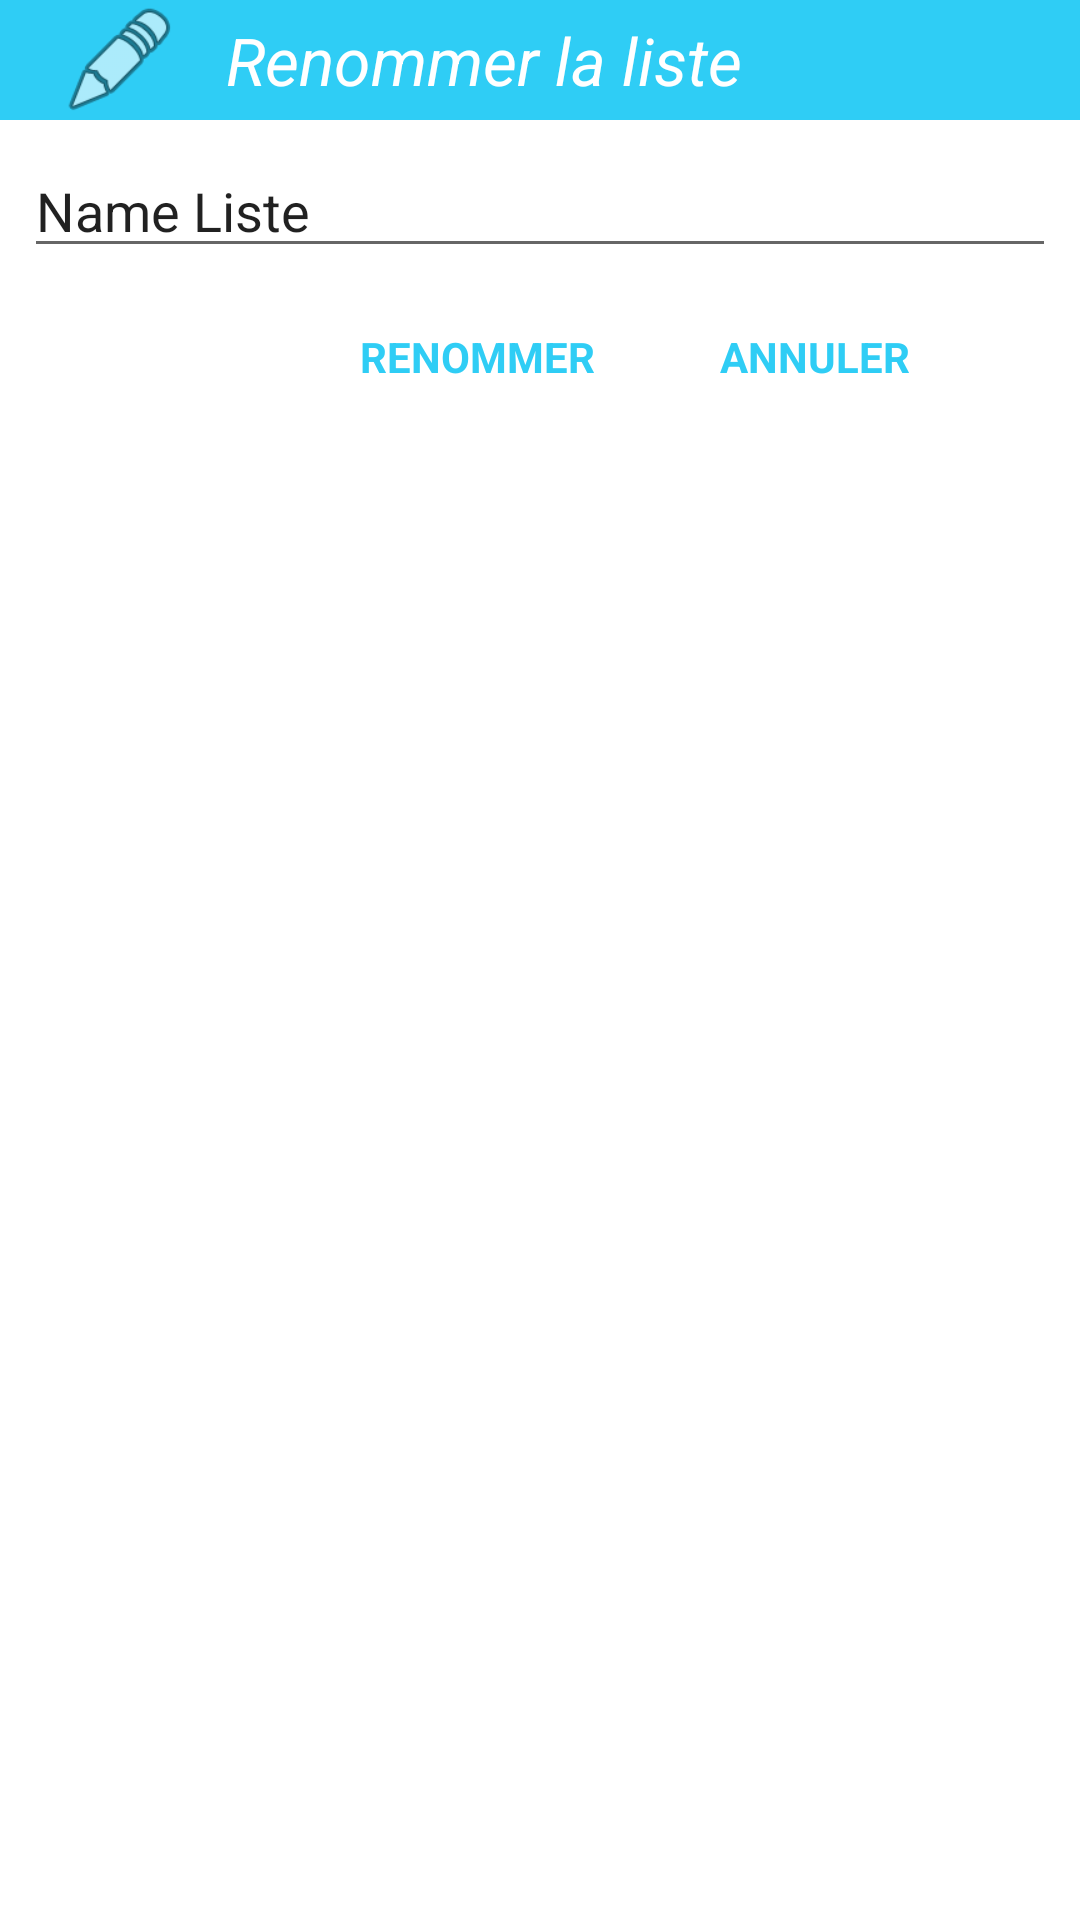

Where icons sit on this 1080w x 1920h app screen, as (x1=x1, y1=y1, x2=x2, y2=y2):
edit: (x1=69, y1=8, x2=170, y2=110)
